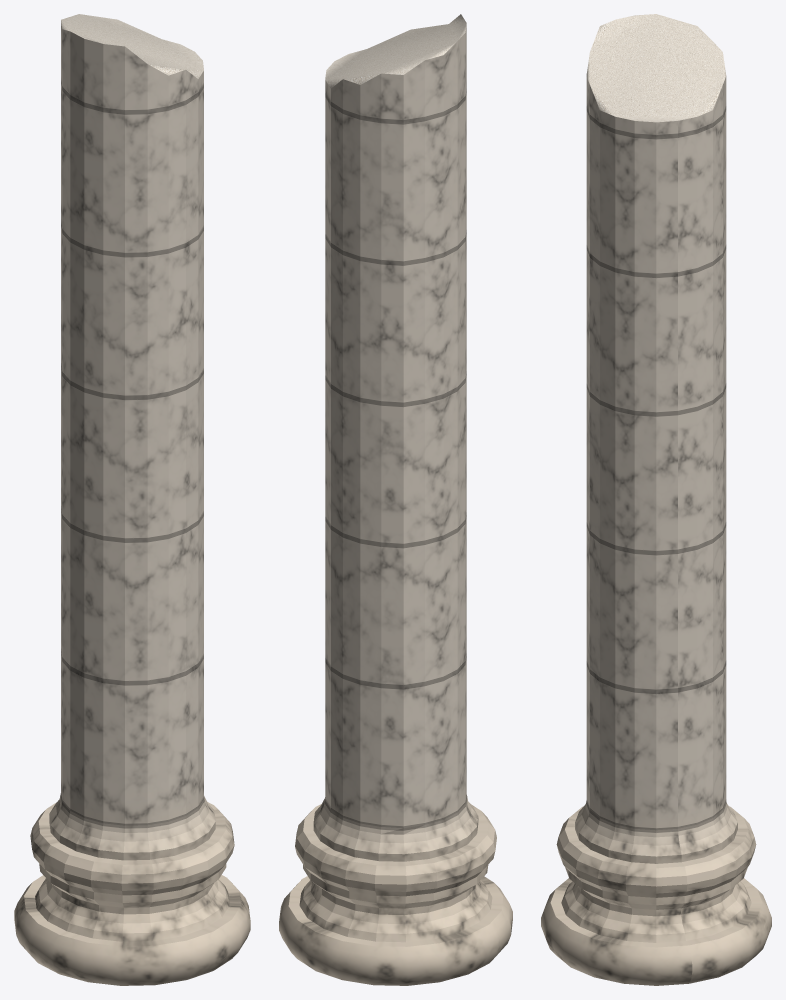
File: Pillar_Broken_2.FBX
3 renders of one model, left to right at view 1: azimuth 30°, elevation 25°; view 2: azimuth 150°, elevation 25°; view 3: azimuth 270°, elevation 25°, orthographic. The views are drawn at different scales.
Parts seen in each view (by area): view 1: Cylinder001; view 2: Cylinder001; view 3: Cylinder001.
Part boxes in pixels (x1=…): Cylinder001: x1=14, y1=14, x2=250, y2=985; Cylinder001: x1=279, y1=14, x2=512, y2=985; Cylinder001: x1=541, y1=14, x2=771, y2=985.
Size of the model in its own units: 22.28 by 95.58 by 22.28.
